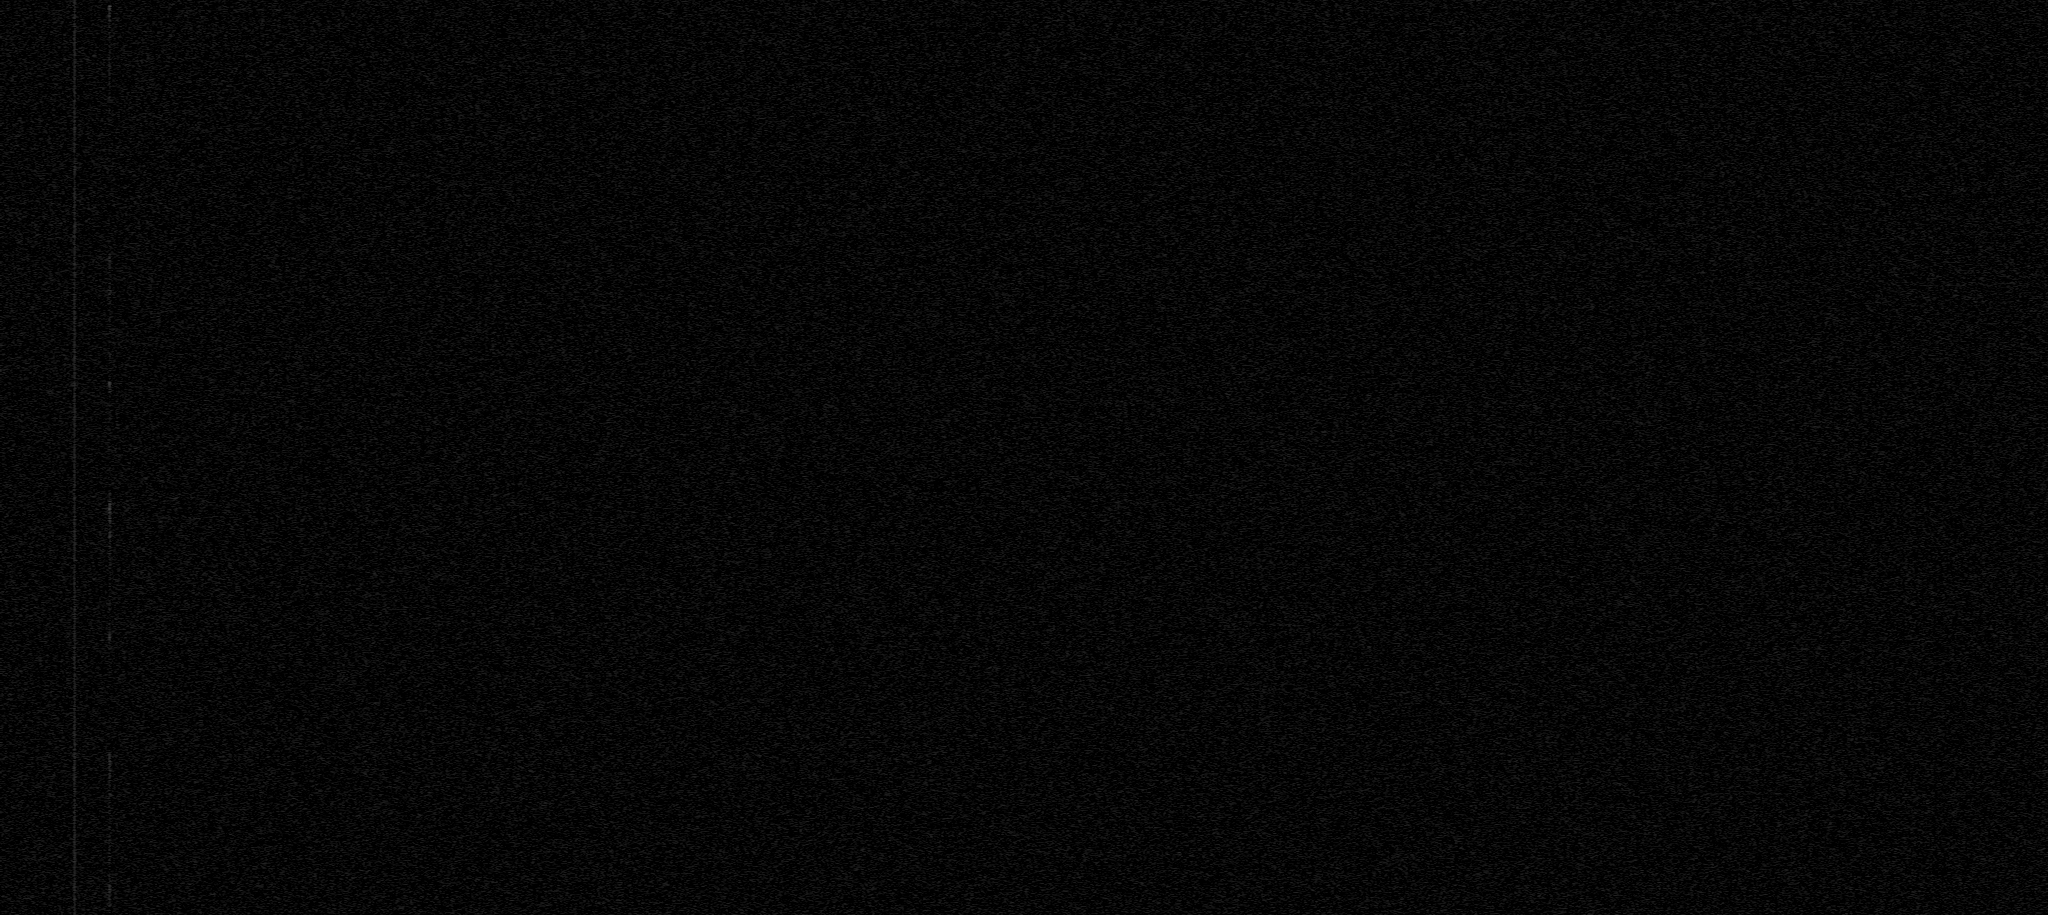wv_cw: (72, 0, 77, 915)
wv_usb: (107, 4, 114, 164), (107, 752, 112, 915), (107, 488, 114, 569), (107, 368, 112, 427), (107, 617, 112, 657), (107, 299, 112, 334), (107, 253, 112, 274), (108, 428, 112, 450), (107, 335, 112, 351), (108, 591, 112, 612), (107, 570, 112, 585), (107, 275, 112, 287), (108, 452, 112, 466), (91, 52, 97, 61), (107, 352, 112, 360), (107, 288, 112, 296), (91, 183, 97, 191), (91, 198, 97, 205), (108, 202, 111, 213), (108, 479, 112, 486), (108, 245, 112, 252), (108, 664, 111, 674), (107, 586, 112, 590), (108, 187, 111, 194), (91, 593, 95, 597), (108, 613, 112, 617), (108, 467, 111, 473), (108, 694, 111, 700), (108, 196, 111, 201), (91, 580, 97, 582), (108, 166, 111, 170), (108, 657, 111, 660), (108, 748, 111, 751), (108, 687, 111, 689), (108, 680, 111, 683)
